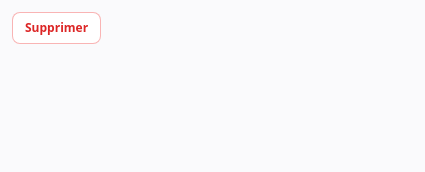
Test: ExerciseDeleteCell › un refus du serveur s’affiche, la confirmation reste ouverte
Click the button "Supprimer" at (57, 28), box [12, 12, 101, 44]
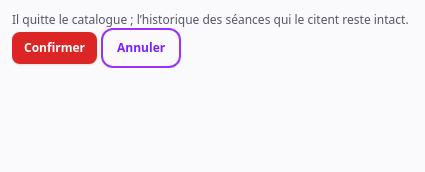
Click the button "Confirmer" at (54, 48), box [12, 32, 97, 64]
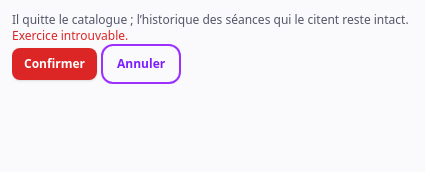
Now the button "Confirmer" is enabled, box [12, 48, 97, 80]
Now the message reads "Exercice introuvable.", box [12, 27, 128, 44]
